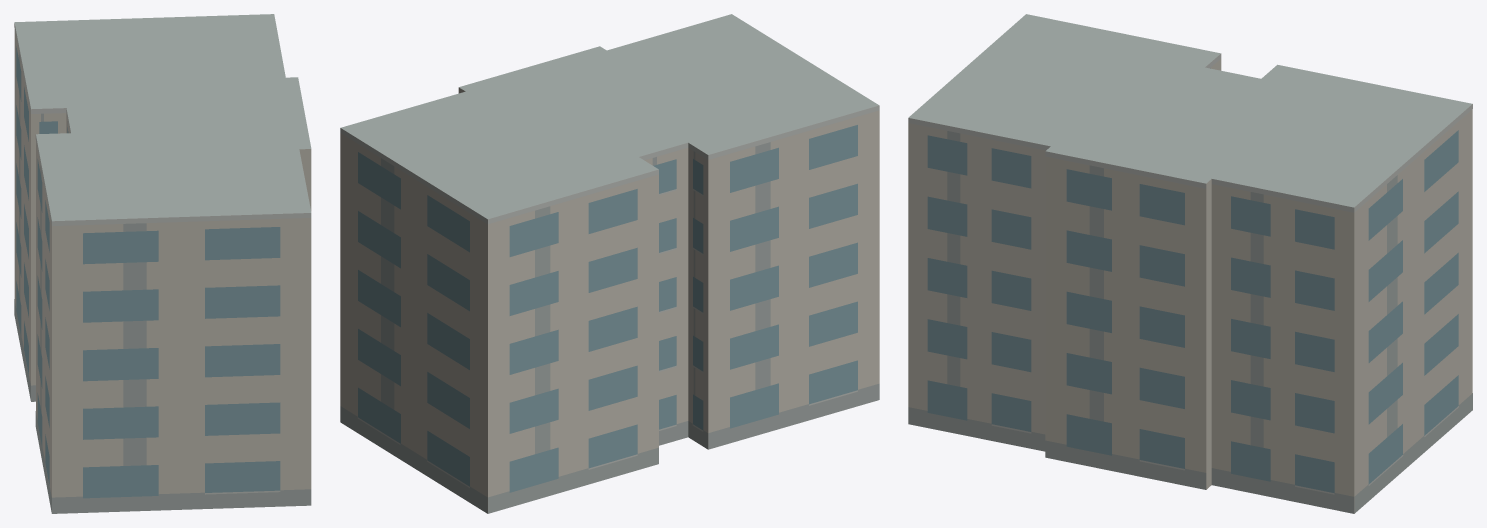
The model's file is survey-upis-33034867.glb.
3 views of the same model, side by side, from view 1: azimuth 30°, elevation 25°; view 2: azimuth 150°, elevation 25°; view 3: azimuth 270°, elevation 25° (orthographic). The views are drawn at different scales.
Visible parts, largest first — view 1: survey-upis-33034867.tmp; view 2: survey-upis-33034867.tmp; view 3: survey-upis-33034867.tmp.
Part boxes in pixels (box(x1,y1,x2,y2)): survey-upis-33034867.tmp: box(14, 14, 311, 513); survey-upis-33034867.tmp: box(340, 14, 879, 513); survey-upis-33034867.tmp: box(908, 14, 1472, 513).
Bounding box in the file's own units: 19.46 × 14.35 × 23.98.
